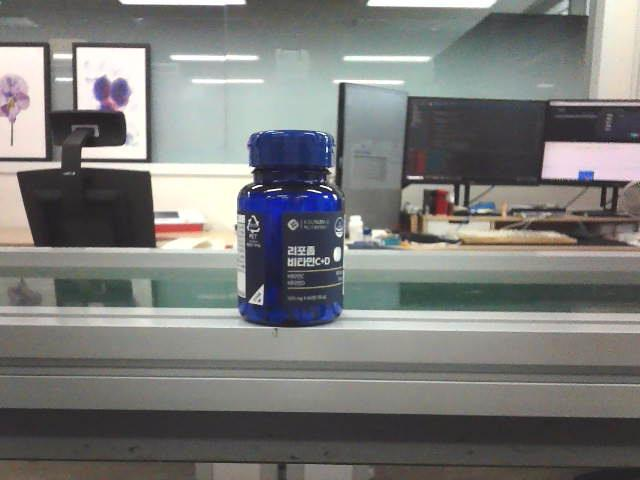labeled: (233, 124, 347, 330)
